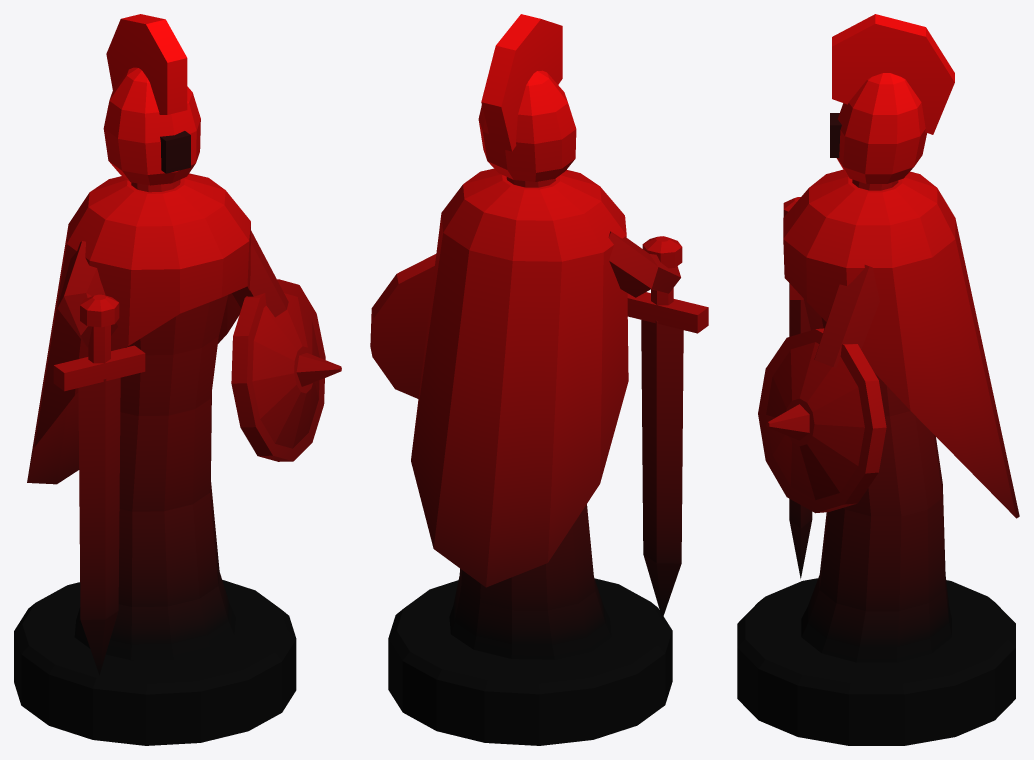
File: ns-swordsman-statue.glb
3 renders of one model, left to right at view 1: azimuth 30°, elevation 25°; view 2: azimuth 150°, elevation 25°; view 3: azimuth 270°, elevation 25°, orthographic.
Visible parts, largest first — view 1: Ringed form.001, Ringed form, Cloak, Blade, Tapered form.003, Ringed form.002, Tapered form.002, Crest, Cube.001, Tapered form, Tapered form.001, Cube (+3 smaller); view 2: Cloak, Ringed form, Ringed form.001, Blade, Ringed form.002, Crest, Tapered form.002, Tapered form, Cube.001, Ringed form.004; view 3: Cloak, Ringed form, Ringed form.001, Tapered form.003, Crest, Ringed form.002, Tapered form.002, Tapered form.001, Blade, Tapered form.004.
Part boxes in pixels (<box>): Ringed form.001: <box>74,180,235,660</box>; Ringed form: <box>14,580,296,745</box>; Cloak: <box>27,173,250,484</box>; Blade: <box>78,377,120,674</box>; Tapered form.003: <box>252,293,319,448</box>; Ringed form.002: <box>103,67,200,185</box>; Tapered form.002: <box>231,279,325,461</box>; Crest: <box>106,14,187,114</box>; Cube.001: <box>53,345,145,391</box>; Tapered form: <box>57,241,117,347</box>; Tapered form.001: <box>232,230,288,317</box>; Cube: <box>160,131,190,173</box>; Cloak: <box>411,168,628,587</box>; Ringed form: <box>388,578,672,745</box>; Ringed form.001: <box>449,177,611,659</box>; Blade: <box>641,320,683,618</box>; Ringed form.002: <box>478,70,576,181</box>; Crest: <box>481,14,562,151</box>; Tapered form.002: <box>370,254,436,398</box>; Tapered form: <box>608,231,680,297</box>; Cube.001: <box>627,292,708,333</box>; Ringed form.004: <box>642,236,682,268</box>; Cloak: <box>783,169,1019,518</box>; Ringed form: <box>737,578,1015,745</box>; Ringed form.001: <box>801,179,951,662</box>; Tapered form.003: <box>766,342,864,500</box>; Crest: <box>832,14,954,134</box>; Ringed form.002: <box>836,73,926,183</box>; Tapered form.002: <box>758,328,886,513</box>; Tapered form.001: <box>814,265,879,367</box>; Blade: <box>789,283,812,578</box>; Tapered form.004: <box>766,404,809,440</box>.
Size of the model in its own units: 0.585 by 1.24 by 0.4769.
